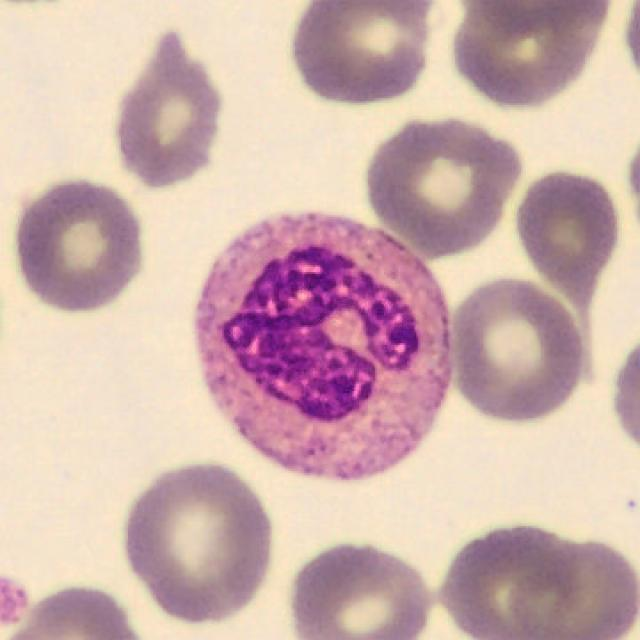Neutrofilo segmentado: (194, 213, 452, 484)
